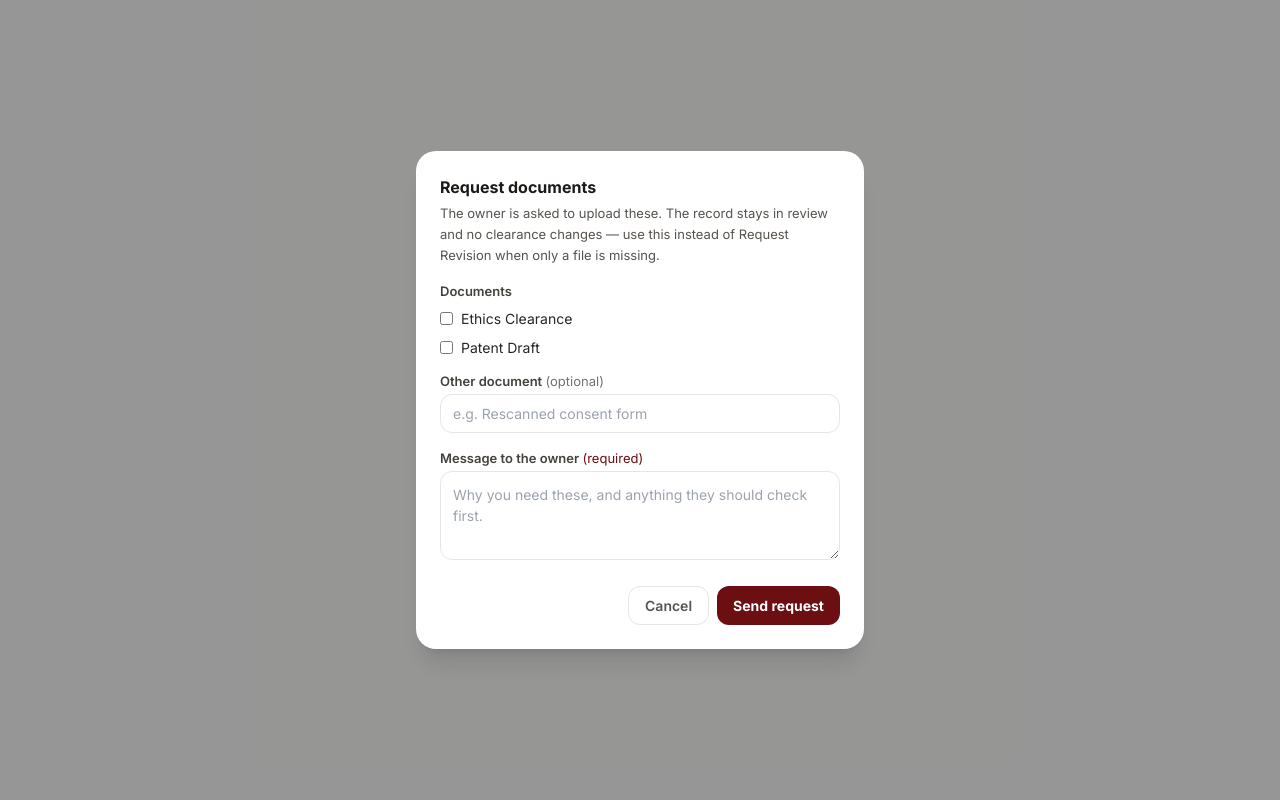
it: RequestDocumentDialog › refuses to send with no document chosen
Expected: the checkbox labelled "Ethics Clearance" is shown, [440,312,453,325]
Type "Why" into the text box labelled "Message to the owner (required)" at {"x": 640, "y": 516}, box [440,471,840,560]
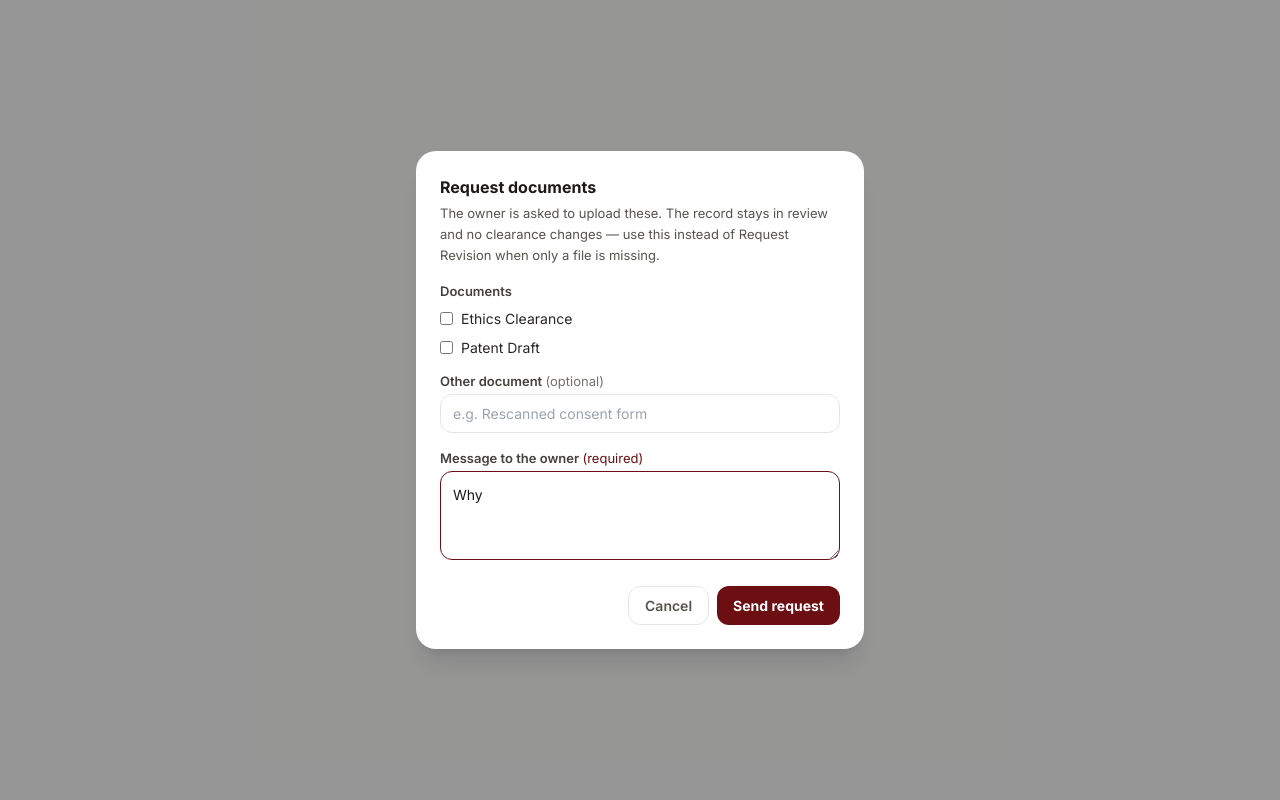
Click the button "Send request" at {"x": 779, "y": 606}, box [717,586,840,625]
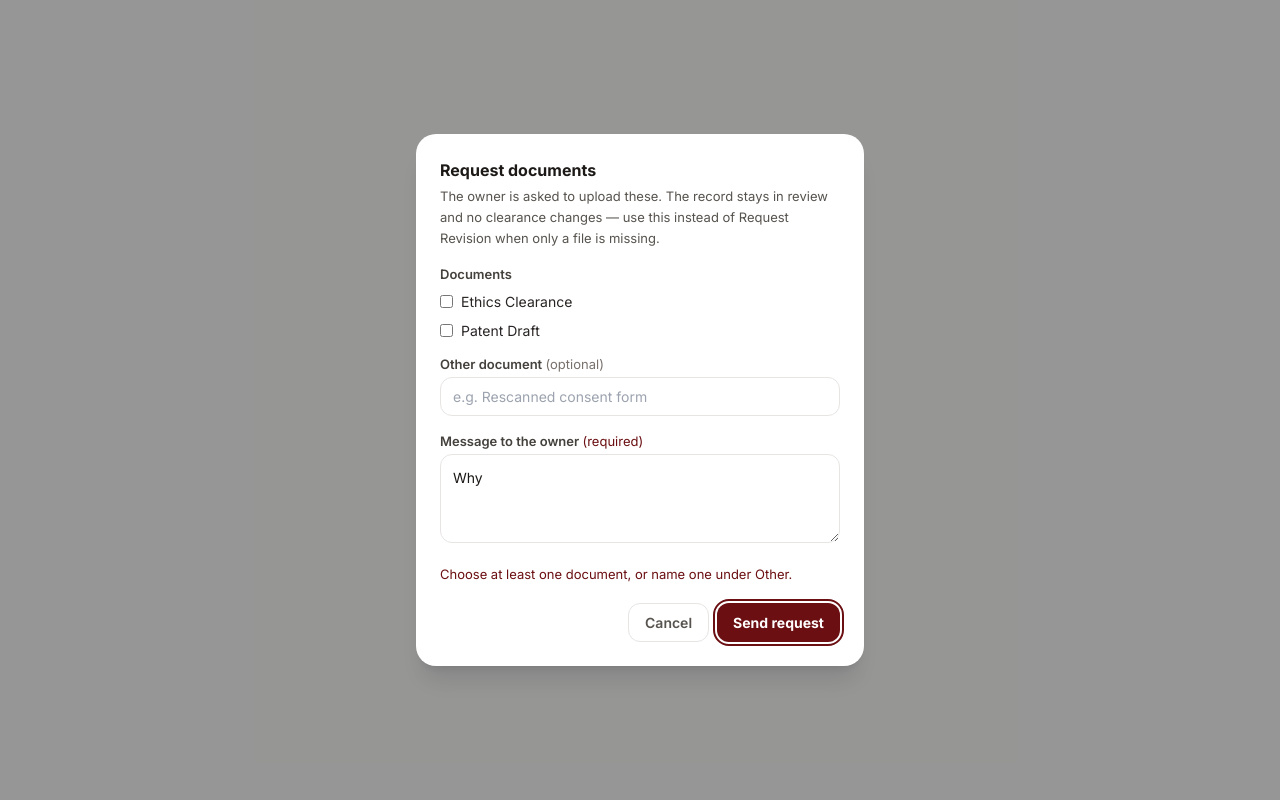
Now the message shows "Choose at least one document", box [440,566,792,582]
